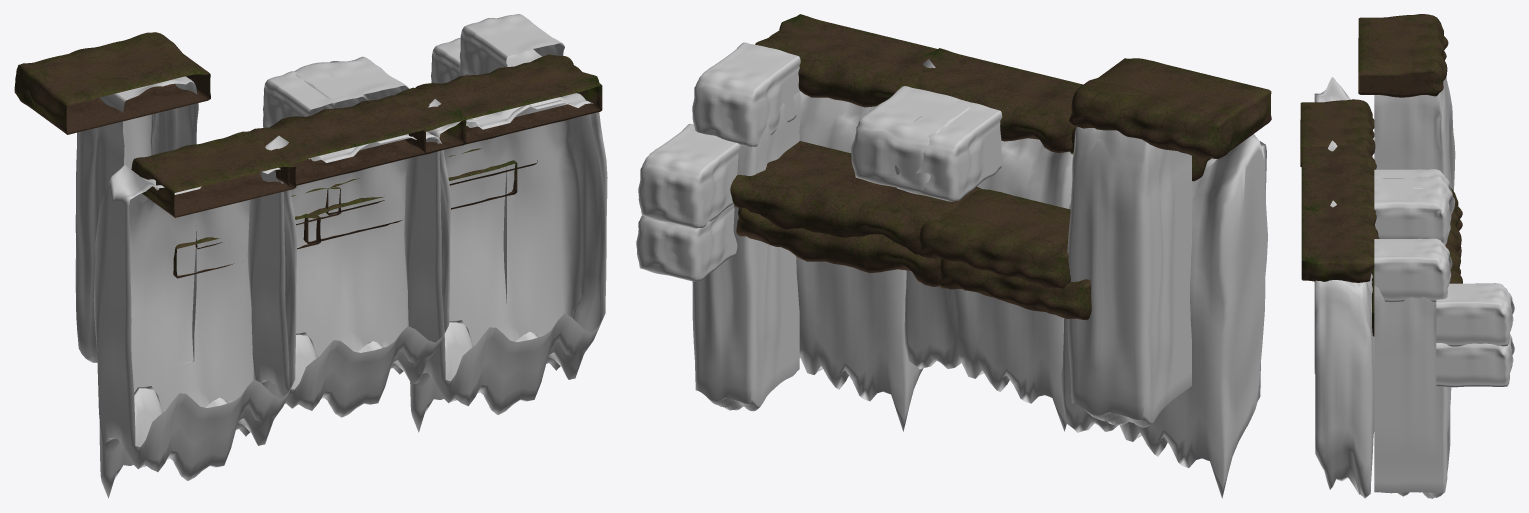
3 views of the same model, side by side, from view 1: azimuth 30°, elevation 25°; view 2: azimuth 150°, elevation 25°; view 3: azimuth 270°, elevation 25° (orthographic). The views are drawn at different scales.
Parts seen in each view (by area): view 1: Piso_5__1_, Piso_5__3_, Piso_5__2_, Piso_3__5_, Piso_6__1_, Piso_2__1_, Piso_2__4_, Piso_3__4_, Piso_4, Piso_6__2_, Piso_4__2_, Piso_2__2_ (+3 smaller); view 2: Piso_6__1_, Piso_5__3_, Piso_5__2_, Piso_4__3_, Piso_5__1_, Piso_3__5_, Piso_2__3_, Piso_3__2_, Piso_2__4_, Piso_2__1_, Piso_4, Piso_4__4_ (+5 smaller); view 3: Piso_4__3_, Piso_5__1_, Piso_3__5_, Piso_6__1_, Piso_2__4_, Piso_6__2_, Piso_4, Piso_4__4_, Piso_2__1_, Piso_3__4_, Piso_4__1_, Piso_4__2_ (+4 smaller).
Boxes of the visible parts, x1,y1,x2,y2 form: Piso_5__1_: (404,93,607,432); Piso_5__3_: (93,165,297,498); Piso_5__2_: (247,132,450,417); Piso_3__5_: (14,32,210,134); Piso_6__1_: (75,76,198,364); Piso_2__1_: (250,87,466,187); Piso_2__4_: (390,54,602,153); Piso_3__4_: (131,131,296,217); Piso_4: (459,14,564,75); Piso_6__2_: (294,56,409,115); Piso_4__2_: (262,71,367,127); Piso_2__2_: (303,160,517,244); Piso_6__1_: (1067,126,1191,427); Piso_5__3_: (1061,134,1267,498); Piso_5__2_: (904,138,1072,431); Piso_4__3_: (692,91,800,411); Piso_5__1_: (796,59,935,431); Piso_3__5_: (1069,58,1271,158); Piso_2__3_: (730,141,981,254); Piso_3__2_: (917,189,1070,288); Piso_2__4_: (755,14,947,107); Piso_2__1_: (896,48,1082,152); Piso_4: (692,42,800,147); Piso_4__4_: (638,123,740,228); Piso_4__3_: (1374,286,1451,498); Piso_5__1_: (1315,200,1374,498); Piso_3__5_: (1358,14,1448,97); Piso_6__1_: (1374,77,1455,190); Piso_2__4_: (1301,195,1379,282); Piso_6__2_: (1374,177,1455,245); Piso_4: (1374,238,1452,302); Piso_4__4_: (1436,283,1514,346); Piso_2__1_: (1301,144,1376,212); Piso_3__4_: (1300,99,1375,166); Piso_4__1_: (1436,334,1514,387); Piso_4__2_: (1374,169,1452,192).
Size of the model in its own units: 24300 by 18578 by 11166.
